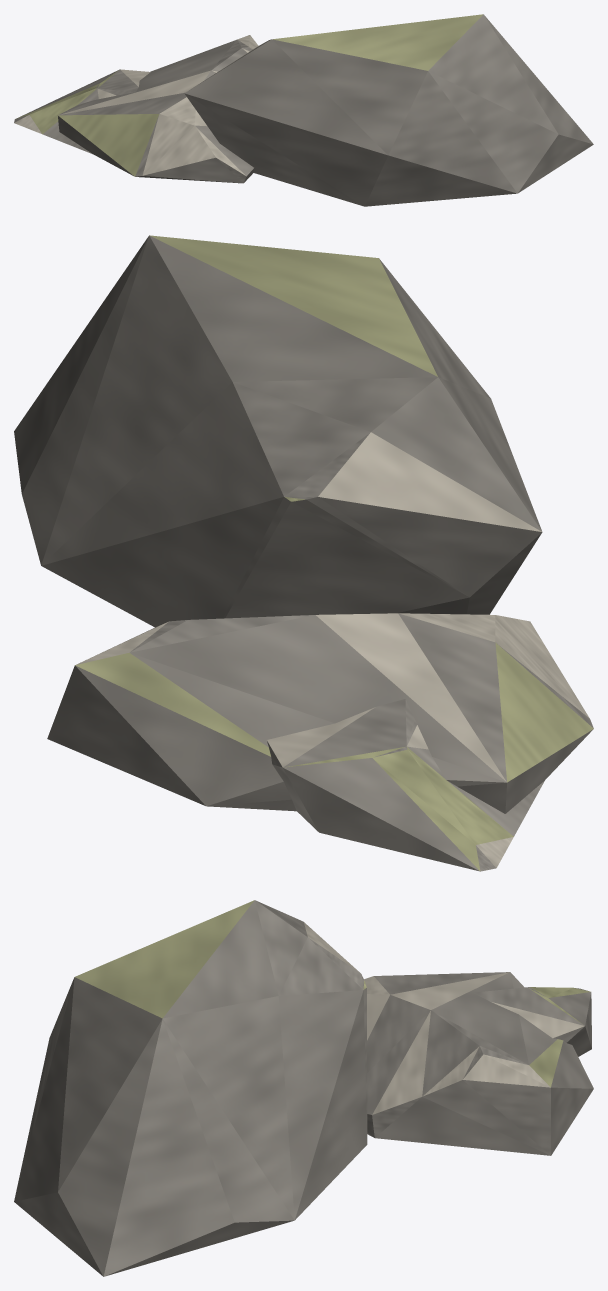
Rendered from rock_pebble_set_06.fbx.
3 views of the same model, one above another, from view 1: azimuth 30°, elevation 25°; view 2: azimuth 150°, elevation 25°; view 3: azimuth 270°, elevation 25° (orthographic). The views are drawn at different scales.
Parts seen in each view (by area): view 1: rock_pebble_set_06; view 2: rock_pebble_set_06; view 3: rock_pebble_set_06.
Boxes of the visible parts, x1,y1,x2,y2 form: rock_pebble_set_06: (14, 14, 593, 206); rock_pebble_set_06: (14, 235, 593, 871); rock_pebble_set_06: (14, 900, 593, 1276).
Size of the model in its own units: 0.3238 by 0.1026 by 0.2754.
